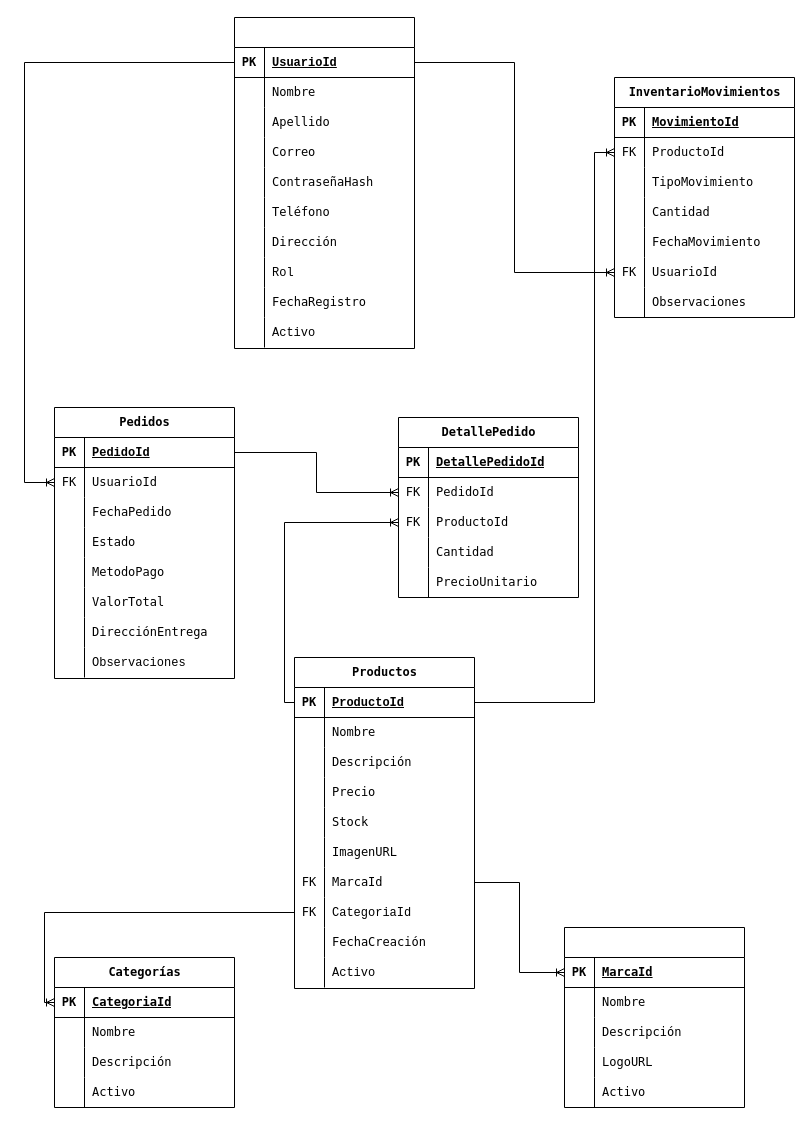
The diagram is 812 pixels wide and 1125 high, and some of its shapes have lost their labels. Here are the shapes that lost their labels. From the top down, the box of each, then its label:
(234, 16, 414, 348): Usuarios
(564, 926, 744, 1108): Marcas
